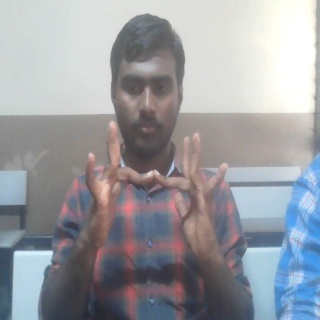Internet: (82, 117, 229, 265)
